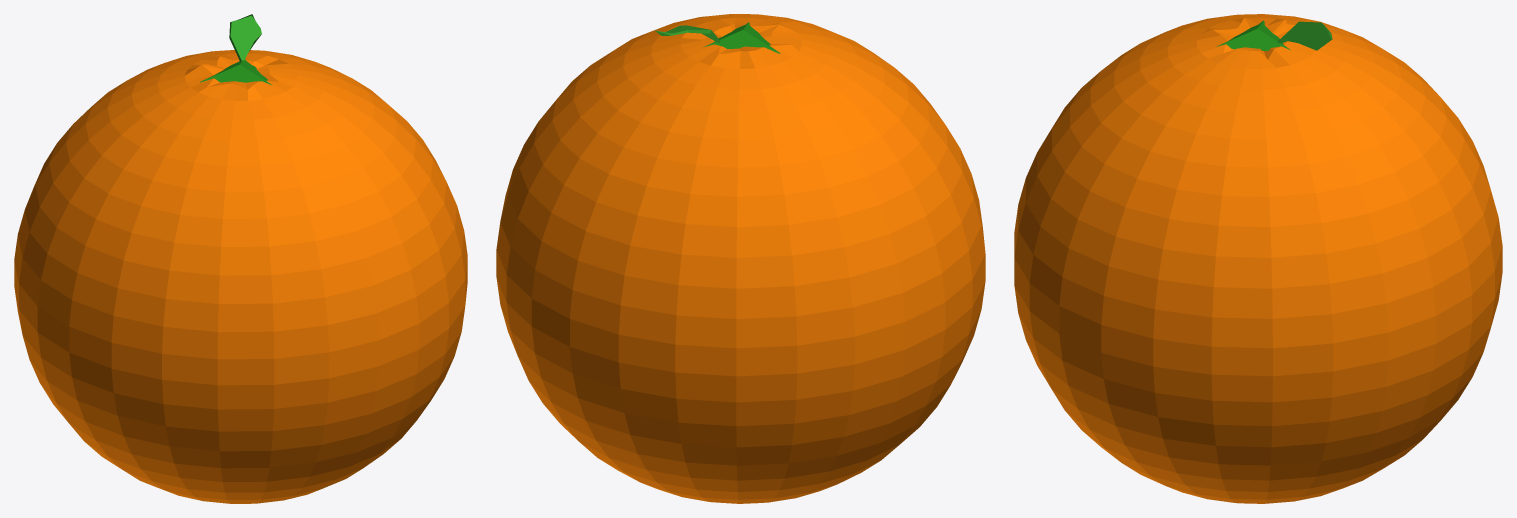
The model's file is portakal.fbx.
3 views of the same model, side by side, from view 1: azimuth 30°, elevation 25°; view 2: azimuth 150°, elevation 25°; view 3: azimuth 270°, elevation 25° (orthographic). The views are drawn at different scales.
Parts seen in each view (by area): view 1: Sphere, Plane, Sphere.001; view 2: Sphere, Sphere.001; view 3: Sphere, Plane, Sphere.001.
Part boxes in pixels (x1,y1,x2,y2): Sphere: (14, 50, 467, 503); Plane: (229, 14, 261, 61); Sphere.001: (200, 59, 272, 85); Sphere: (496, 14, 985, 503); Sphere.001: (703, 22, 780, 53); Sphere: (1014, 14, 1502, 503); Plane: (1277, 21, 1332, 50); Sphere.001: (1216, 20, 1290, 50).
Size of the model in its own units: 225 by 238 by 225.
